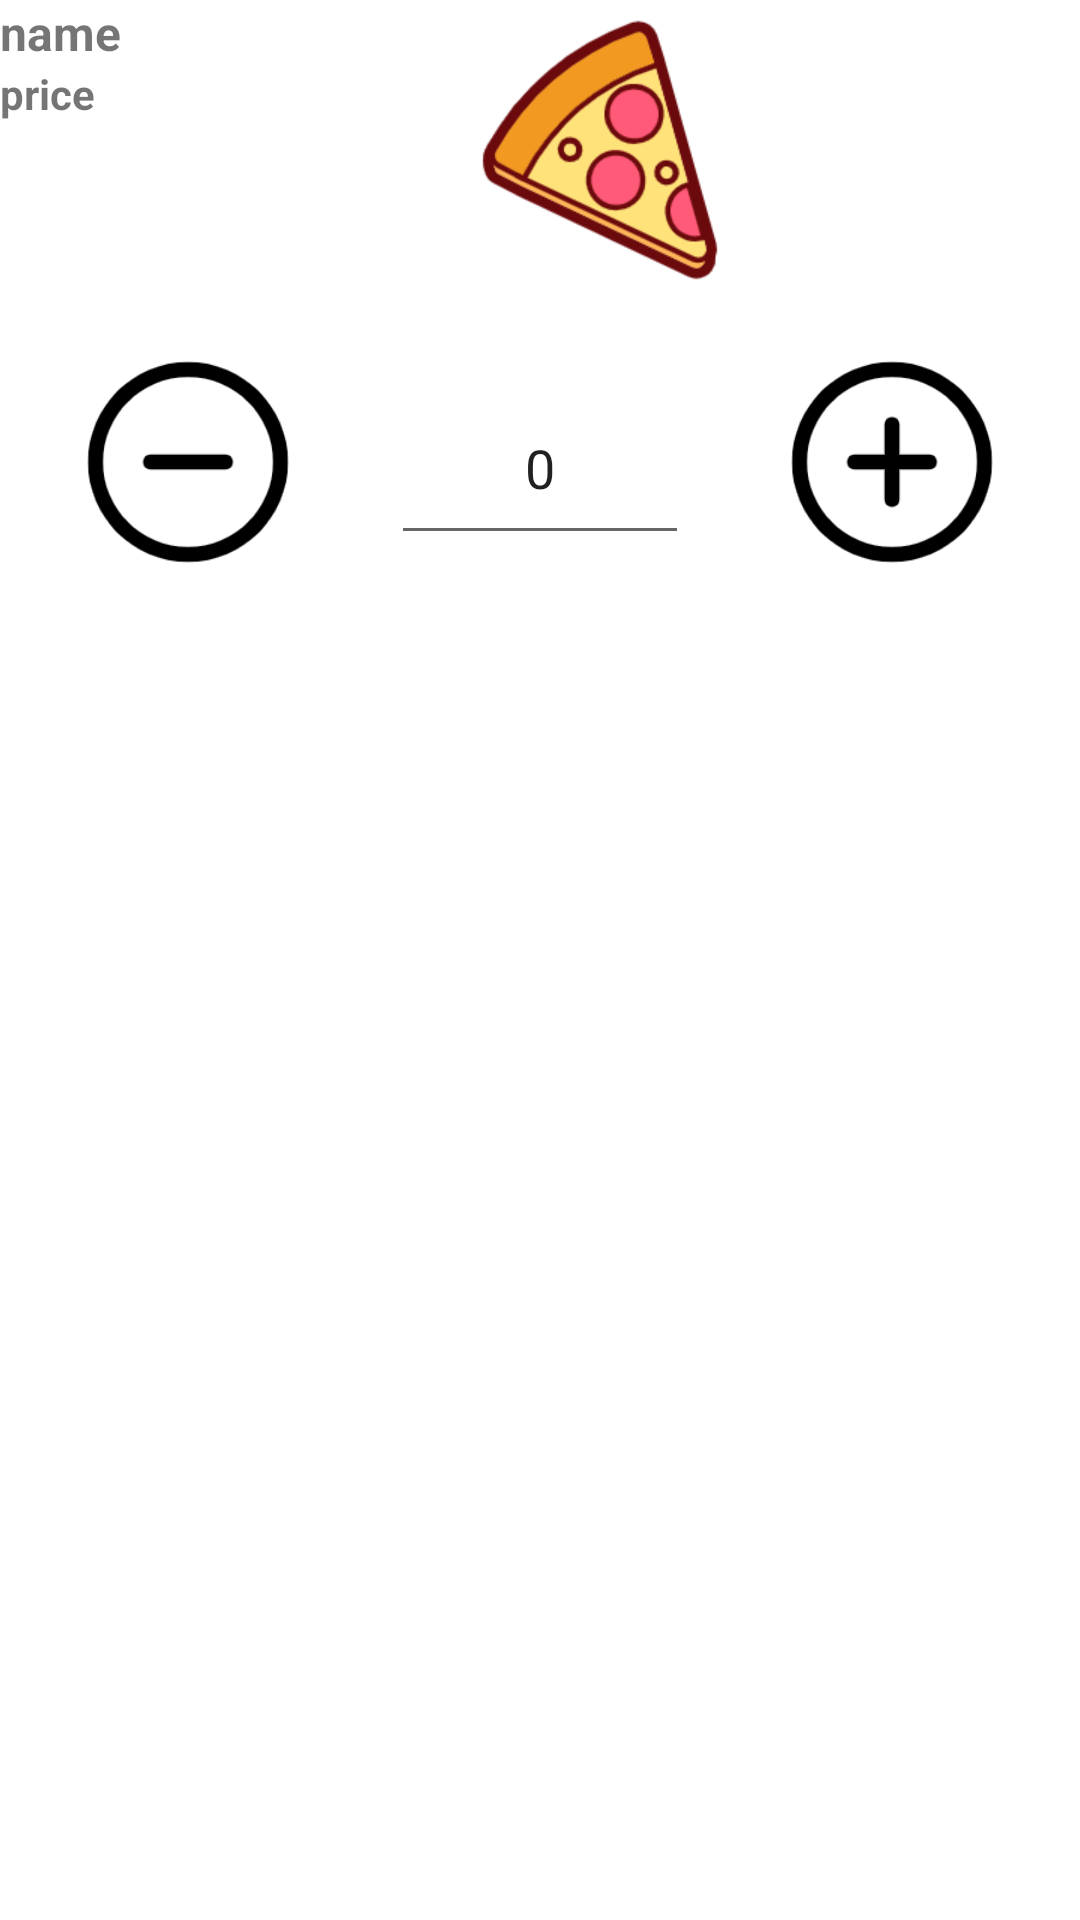

Icon bounding boxes for this 1080x1920 phone screenshot, format (x1, y1, x2, y2):
decreasebutton: (87, 361, 289, 563)
increasebutton: (791, 361, 993, 563)
pizza: (482, 20, 718, 280)
